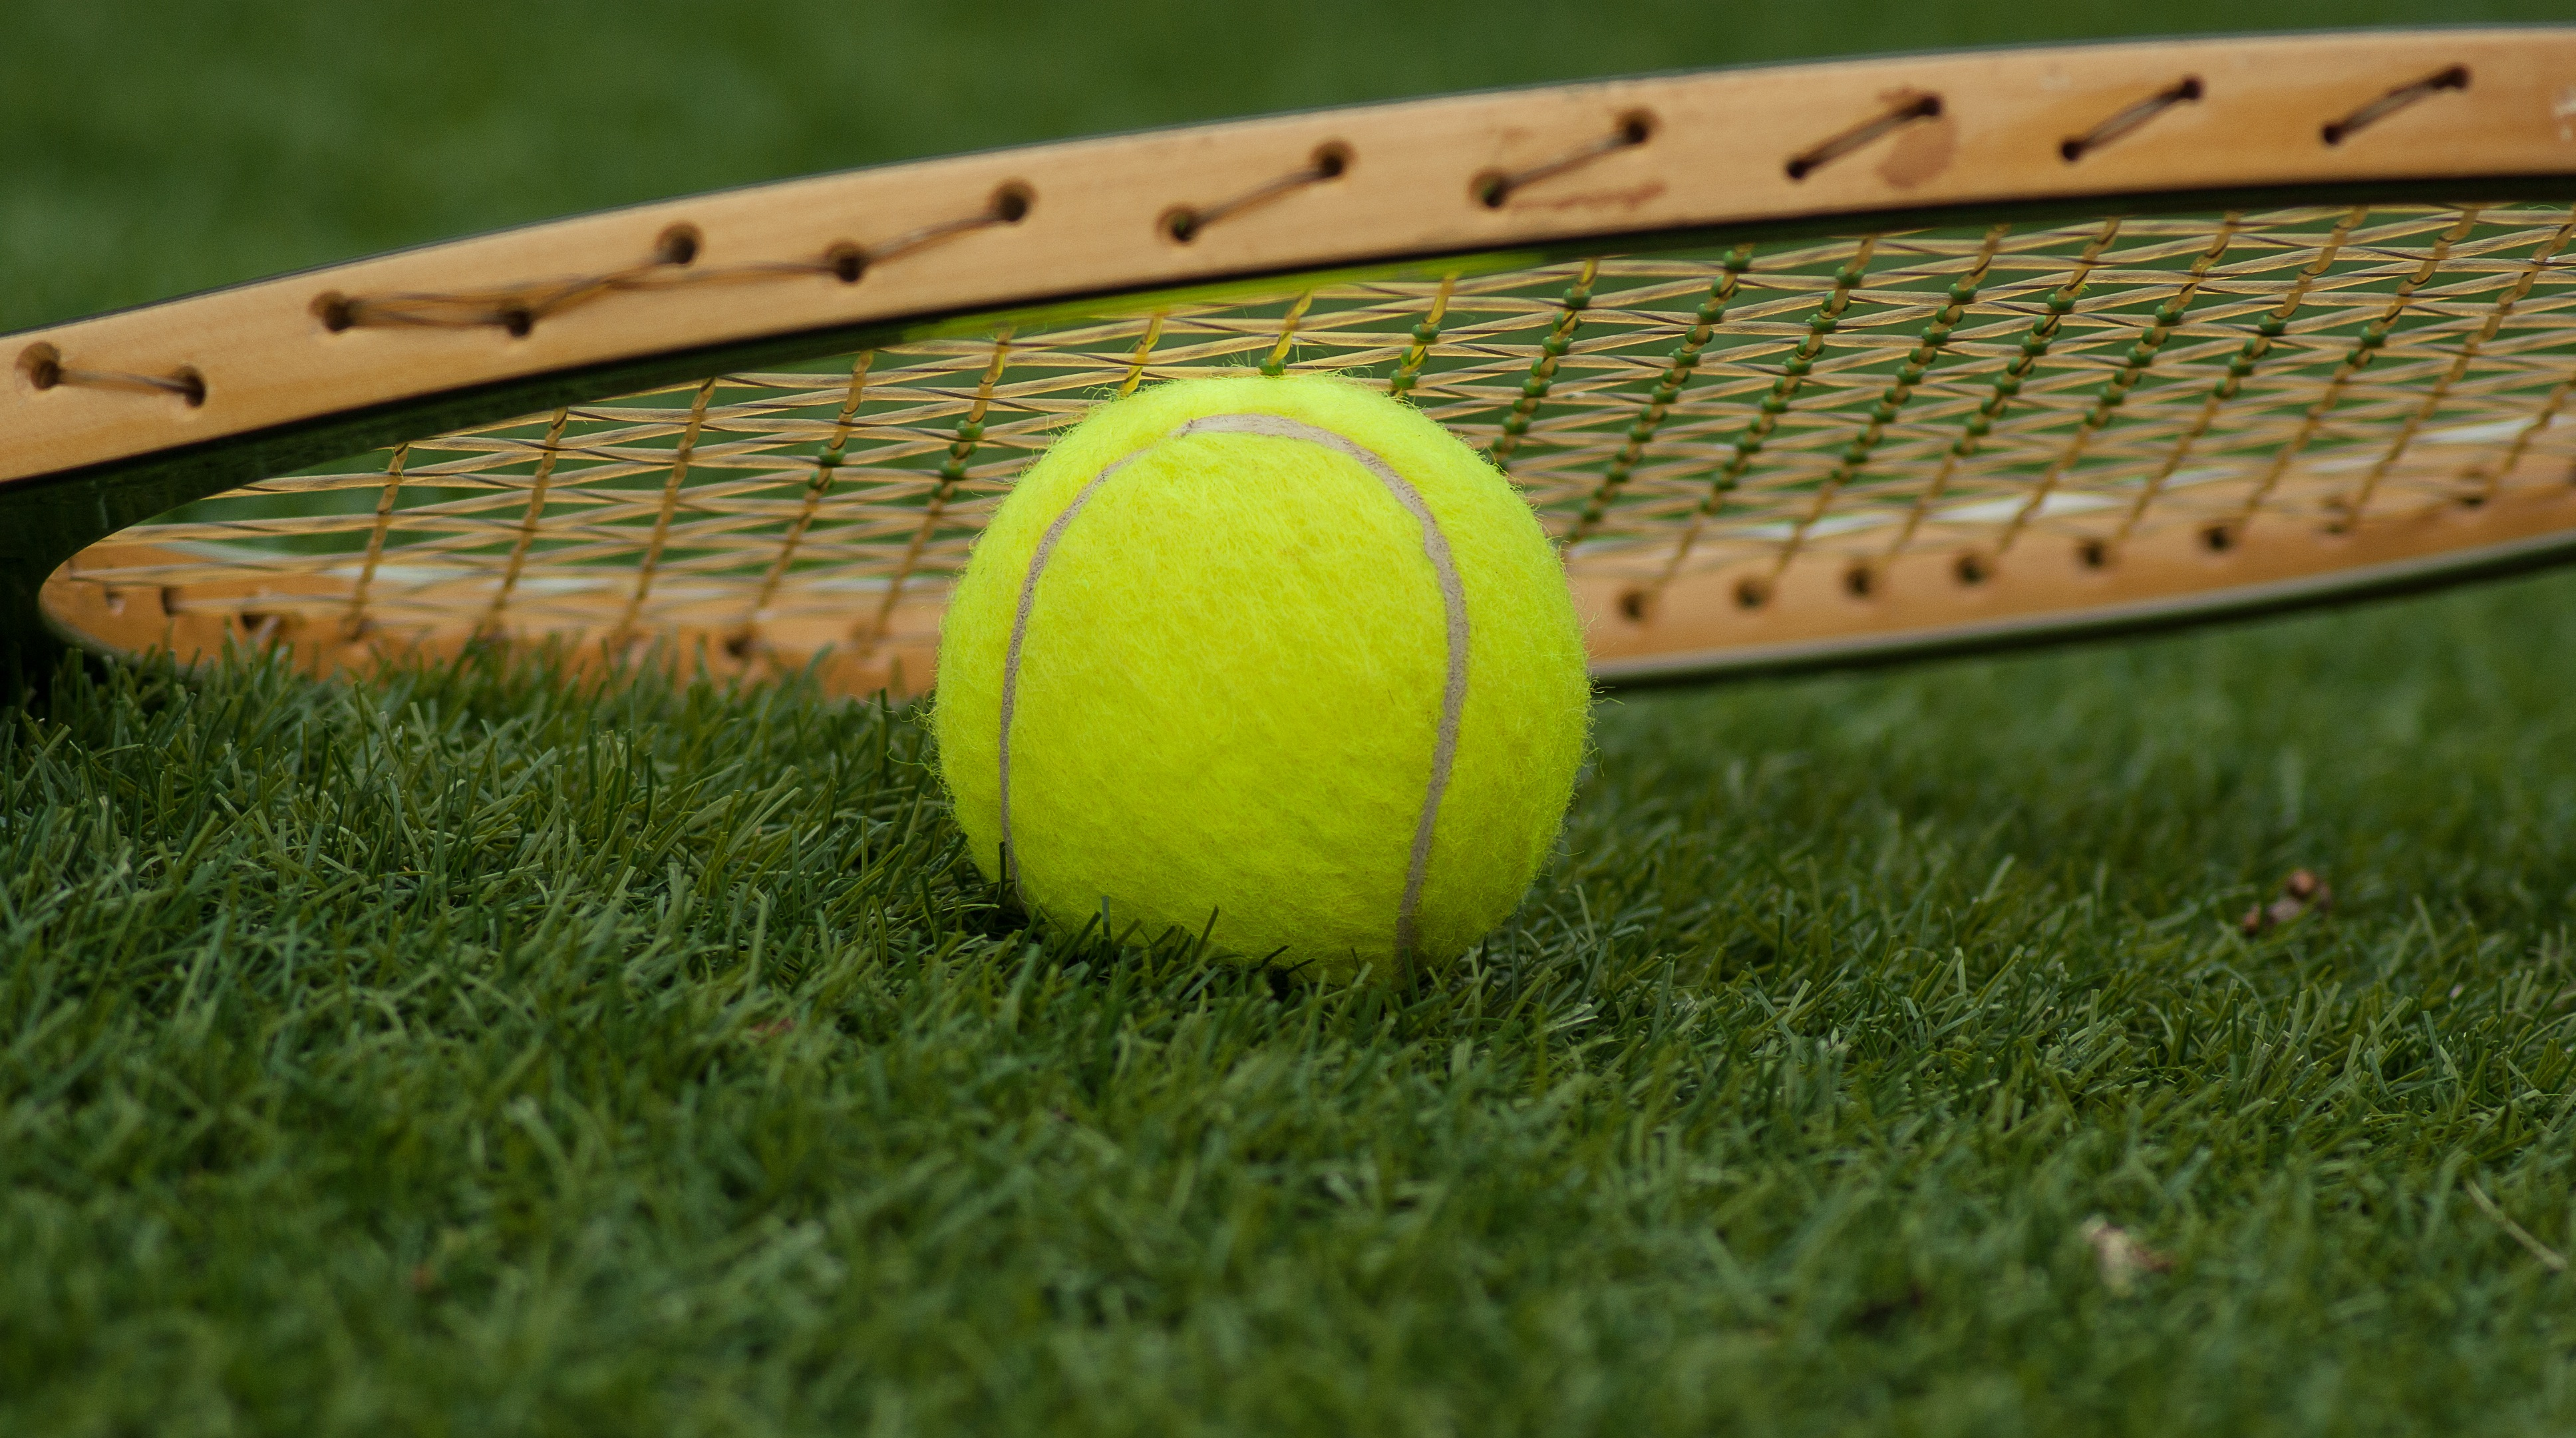tennis_ball: (927, 371, 1606, 1006)
